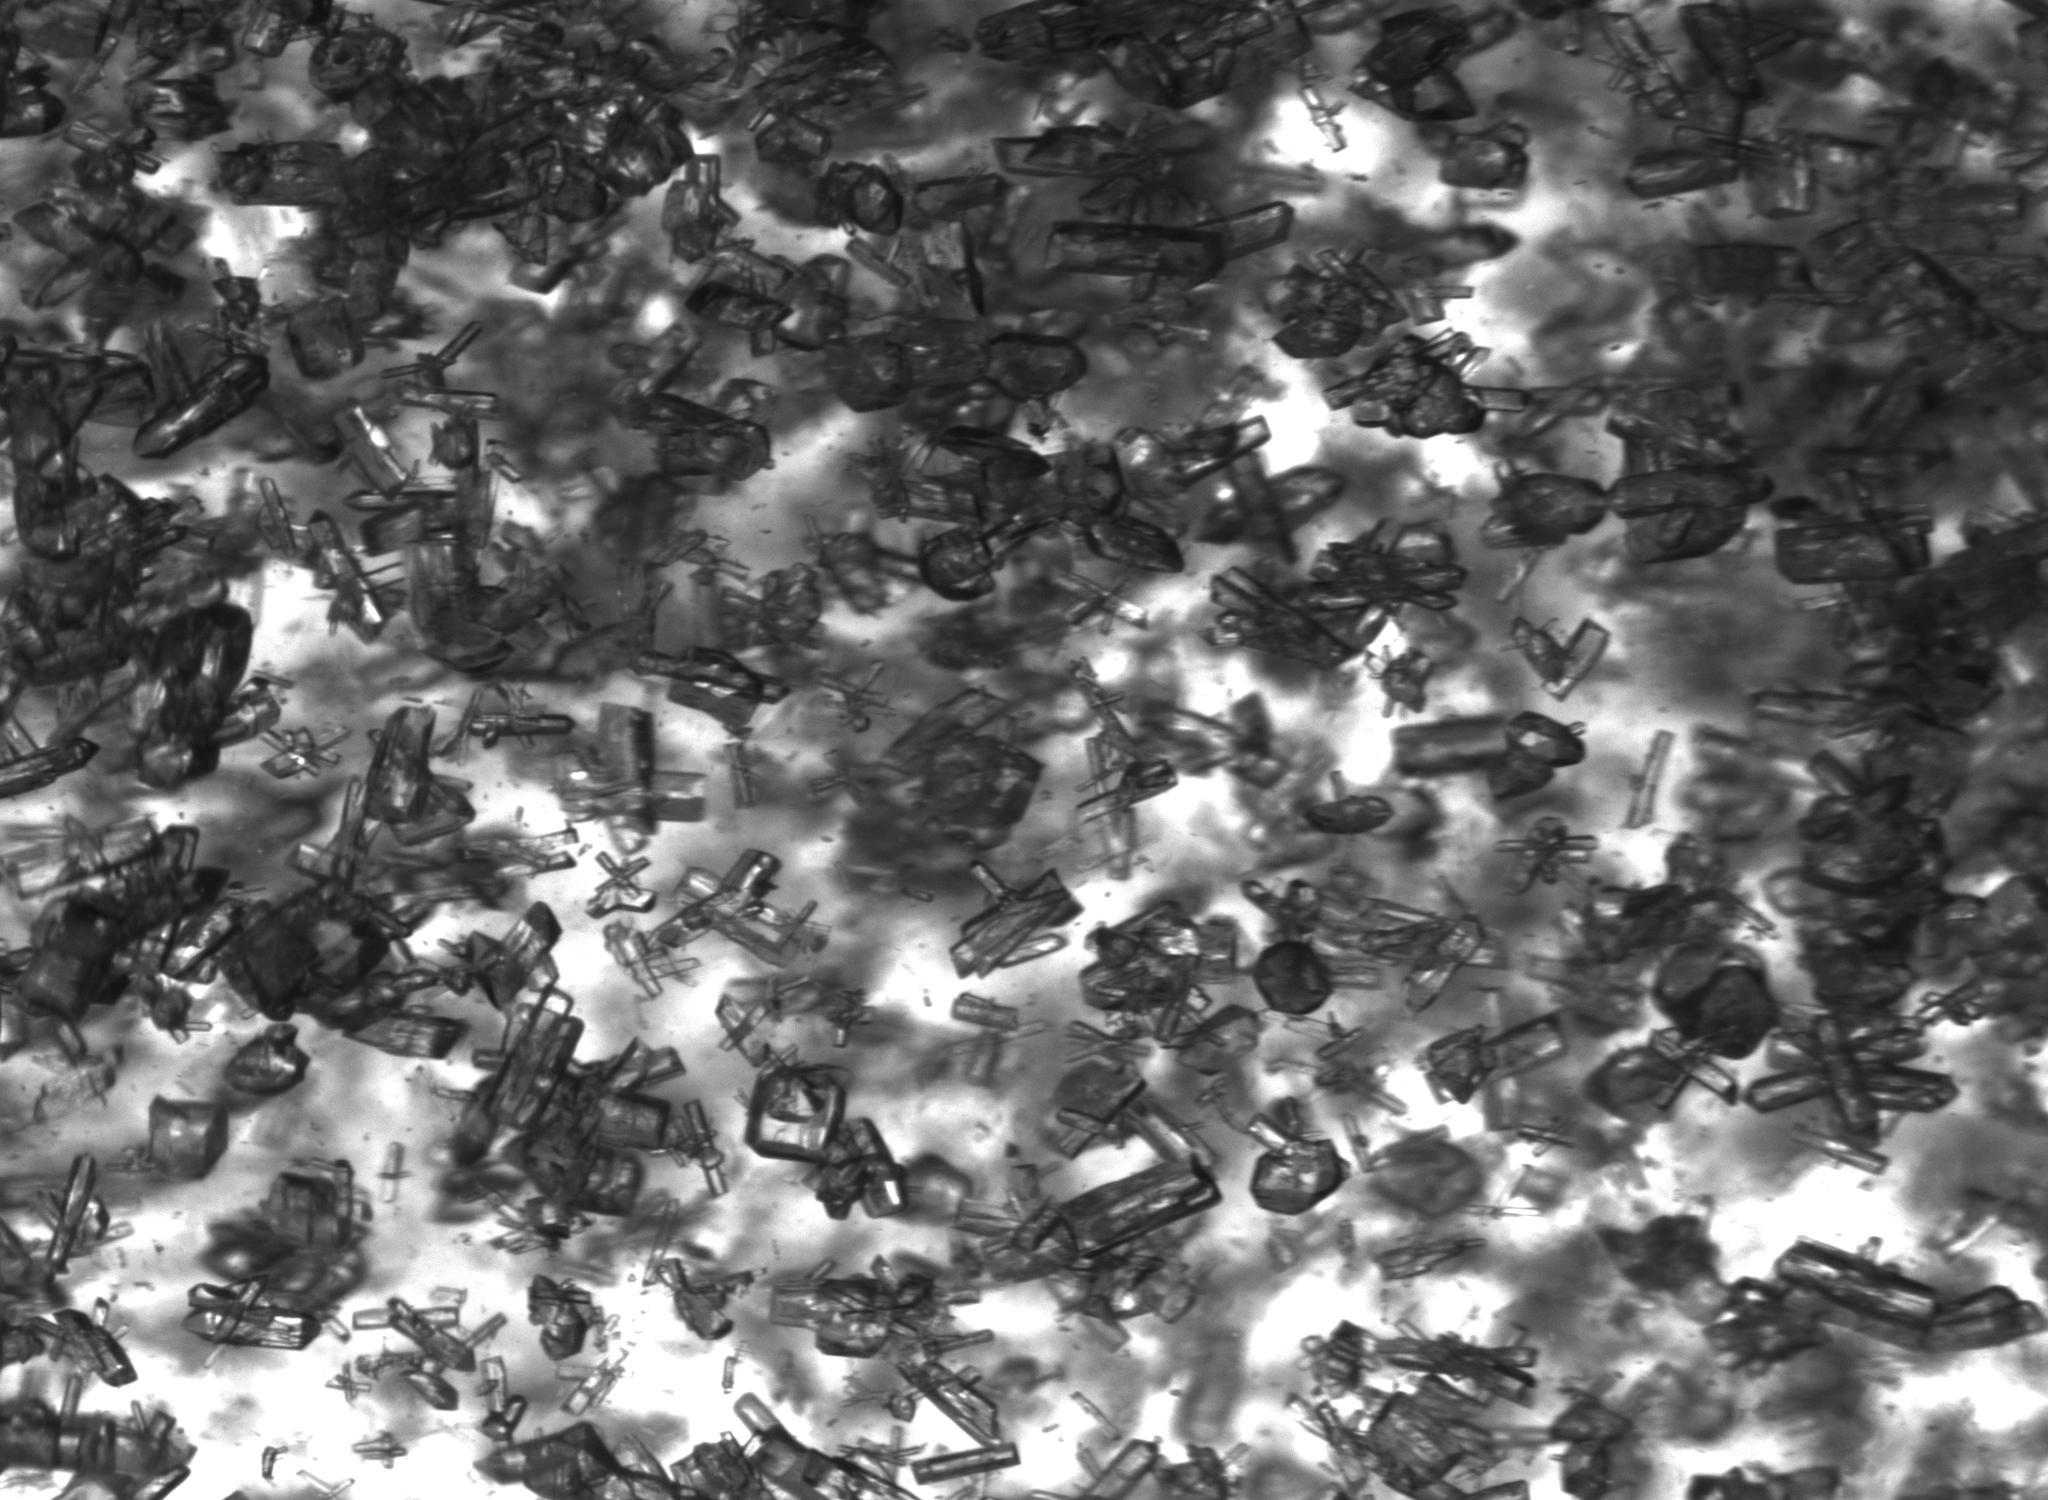crystal: (216, 706, 576, 1058), (450, 985, 725, 1215), (5, 821, 240, 1037), (1210, 522, 1466, 670), (601, 845, 830, 997), (952, 1155, 1220, 1284), (1243, 880, 1495, 1008), (1776, 1239, 2048, 1350), (1744, 1012, 1956, 1150), (132, 600, 280, 791), (1294, 1381, 1528, 1500), (13, 186, 191, 337), (673, 1393, 921, 1500), (550, 701, 706, 854), (1080, 902, 1243, 1043), (1325, 329, 1533, 439), (1102, 3, 1309, 110), (1797, 752, 1943, 899), (1049, 200, 1294, 286), (0, 1395, 196, 1500), (770, 1271, 992, 1358), (1045, 1058, 1210, 1171), (1353, 6, 1514, 122), (1307, 1322, 1536, 1403), (1075, 708, 1178, 876), (1259, 248, 1410, 361), (1393, 713, 1585, 799), (479, 1422, 679, 1500), (1138, 689, 1291, 791), (949, 862, 1083, 978), (1609, 464, 1762, 565), (134, 347, 269, 460), (1652, 940, 1779, 1059), (1048, 1223, 1193, 1327), (308, 507, 412, 647), (628, 391, 770, 493), (636, 644, 792, 735), (1585, 1029, 1735, 1121), (1418, 1013, 1566, 1104), (1775, 498, 1929, 584), (1111, 417, 1269, 496), (1577, 10, 1690, 119), (380, 320, 499, 423), (1681, 3, 1797, 108), (754, 35, 894, 121), (919, 735, 1045, 830), (1248, 1098, 1348, 1215), (917, 423, 1054, 507), (876, 689, 1014, 770), (0, 1306, 135, 1387), (1708, 1279, 1824, 1373), (461, 900, 561, 1008), (806, 1115, 905, 1220), (642, 1250, 755, 1341), (881, 221, 984, 320), (711, 563, 824, 652), (1250, 940, 1380, 1016), (1484, 468, 1606, 549), (897, 1354, 1003, 1446), (743, 1063, 843, 1160), (33, 1155, 111, 1277), (660, 153, 743, 267), (1547, 1390, 1633, 1500), (184, 1282, 323, 1349), (328, 398, 412, 506), (353, 1296, 474, 1371), (219, 142, 350, 210), (994, 124, 1143, 180), (1511, 617, 1611, 700), (1037, 563, 1153, 631), (822, 332, 916, 417), (305, 24, 405, 100), (1496, 818, 1598, 892), (124, 75, 229, 146), (146, 1096, 231, 1180), (64, 119, 161, 192), (285, 296, 366, 382), (0, 736, 103, 803), (1166, 1005, 1263, 1075), (989, 331, 1086, 401), (816, 161, 905, 235), (1075, 514, 1185, 574), (223, 1021, 308, 1098), (681, 278, 795, 336), (32, 1050, 121, 1123), (528, 1276, 604, 1360), (916, 527, 1002, 601), (1625, 146, 1736, 199), (1701, 245, 1816, 294), (493, 1196, 590, 1253), (911, 172, 1010, 227), (582, 849, 658, 919), (1620, 730, 1674, 829), (1792, 1121, 1889, 1176), (1374, 1234, 1484, 1282), (1439, 132, 1526, 191), (254, 725, 348, 779), (1363, 647, 1433, 717), (908, 1441, 1019, 1484), (755, 113, 832, 175), (1084, 1438, 1158, 1500), (712, 994, 771, 1069), (0, 70, 64, 137), (356, 499, 426, 560), (479, 1355, 526, 1441), (466, 711, 576, 748), (1299, 794, 1394, 835), (555, 1360, 622, 1417), (1296, 83, 1348, 154), (1065, 1020, 1145, 1064), (240, 0, 302, 56), (1911, 980, 1984, 1026), (399, 1354, 458, 1411), (258, 477, 297, 558), (1069, 1390, 1124, 1443), (951, 993, 1019, 1032), (211, 275, 261, 328), (722, 743, 757, 813), (353, 1432, 407, 1468), (1315, 1024, 1364, 1059), (328, 1362, 367, 1401), (879, 1389, 919, 1424), (261, 1446, 288, 1481), (720, 1354, 739, 1393)
